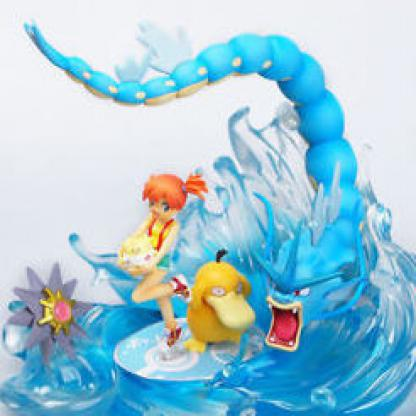Gyarados: (253, 172, 391, 379)
